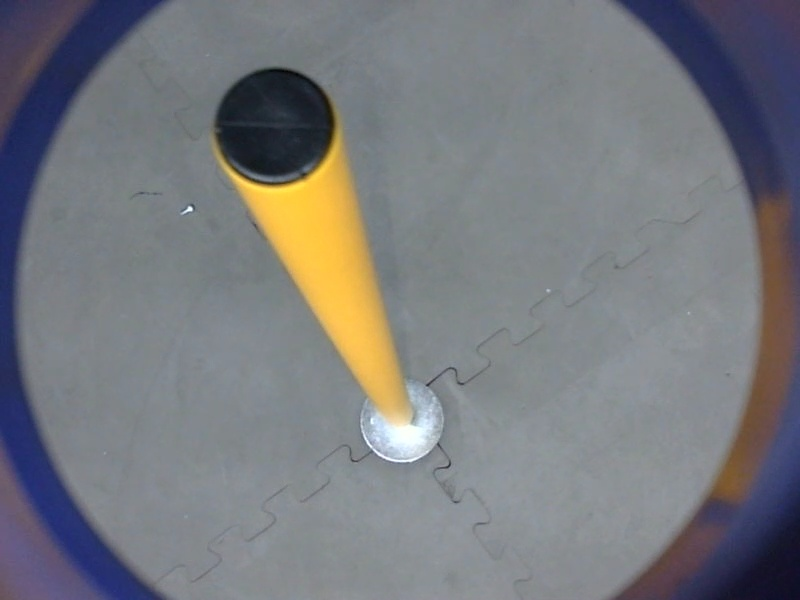tip: (206, 60, 347, 198)
